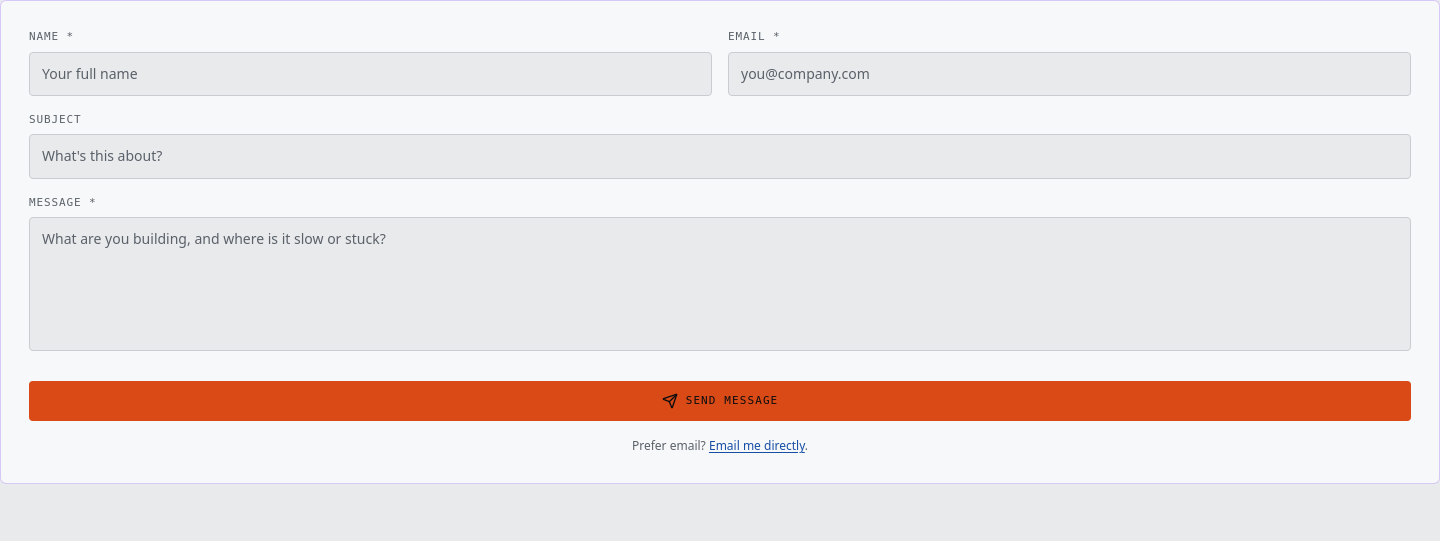
contact form › blocks submission and explains what to fix
Click the button "Send message".
click(720, 401)  # box x1=29 y1=381 x2=1411 y2=421
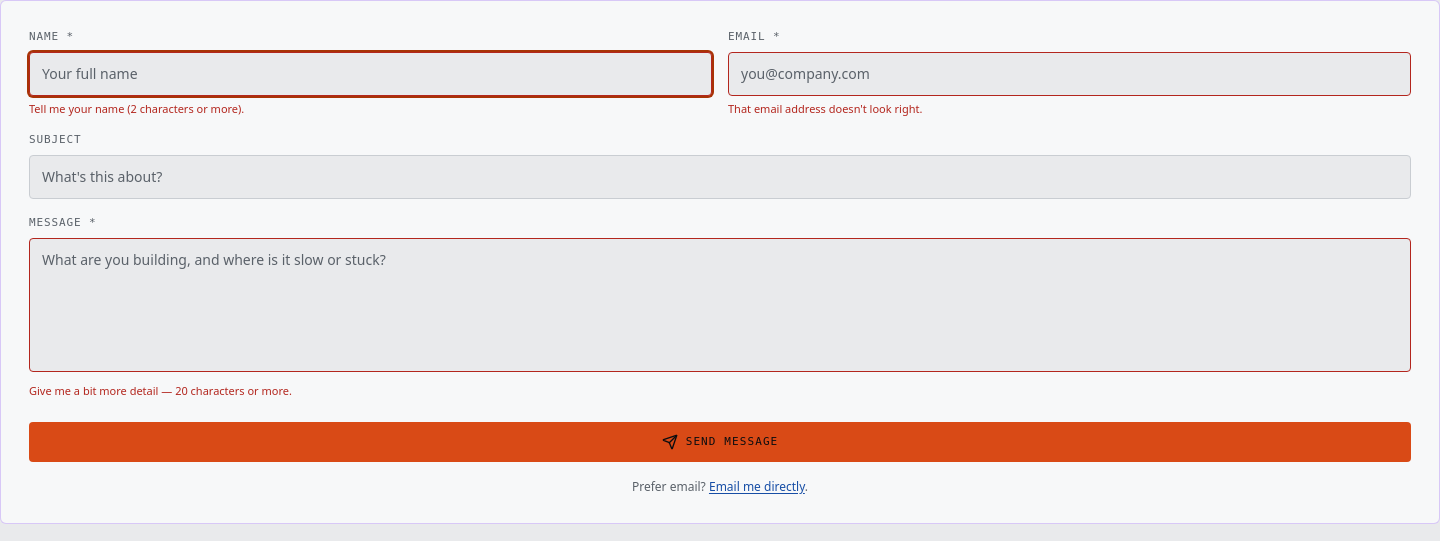
Result: the text "Tell me your name (2 characters or more)." is shown at x1=29 y1=101 x2=244 y2=116
Result: the text "That email address doesn't look right." is shown at x1=728 y1=101 x2=922 y2=116
Result: the text "Give me a bit more detail — 20 characters or more." is shown at x1=29 y1=382 x2=292 y2=398
